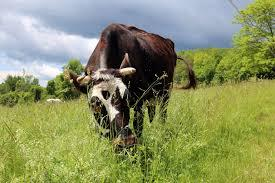cow: (69, 23, 196, 156)
